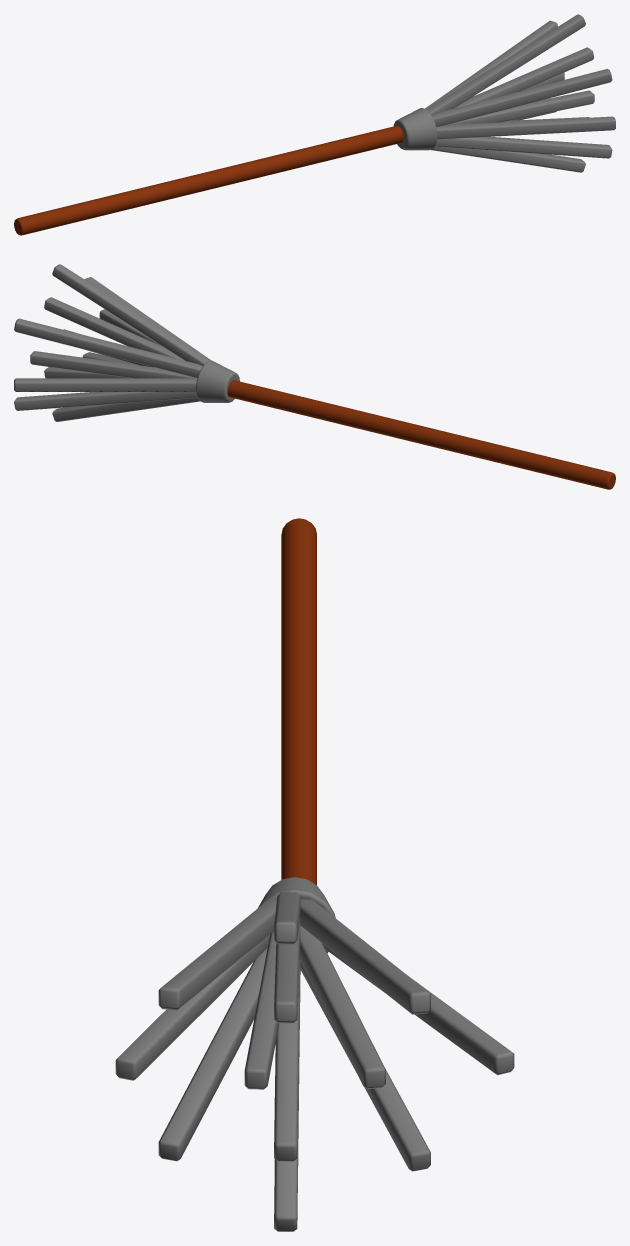
Rendered from broom_01.fbx.
3 renders of one model, top to bottom at view 1: azimuth 30°, elevation 25°; view 2: azimuth 150°, elevation 25°; view 3: azimuth 270°, elevation 25°, orthographic. The views are drawn at different scales.
Visible parts, largest first — view 1: broom_01; view 2: broom_01; view 3: broom_01.
Part boxes in pixels (<box>): broom_01: <box>14,14,615,235</box>; broom_01: <box>14,264,615,489</box>; broom_01: <box>115,518,514,1231</box>.
Bounding box in the file's own units: 139 × 36.05 × 41.95.
